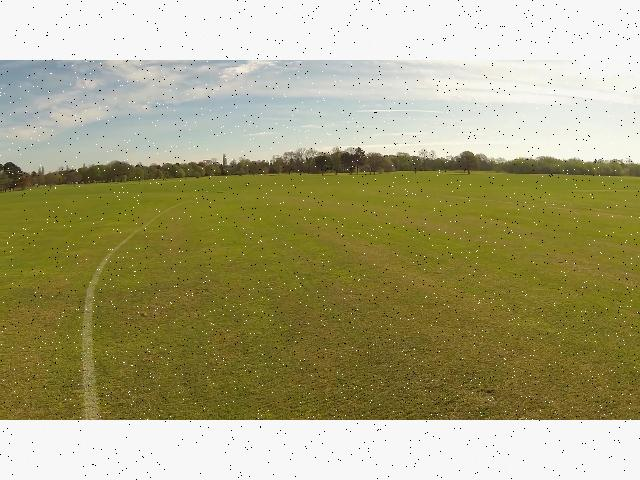Anti-Drone: (384, 131, 408, 154)
